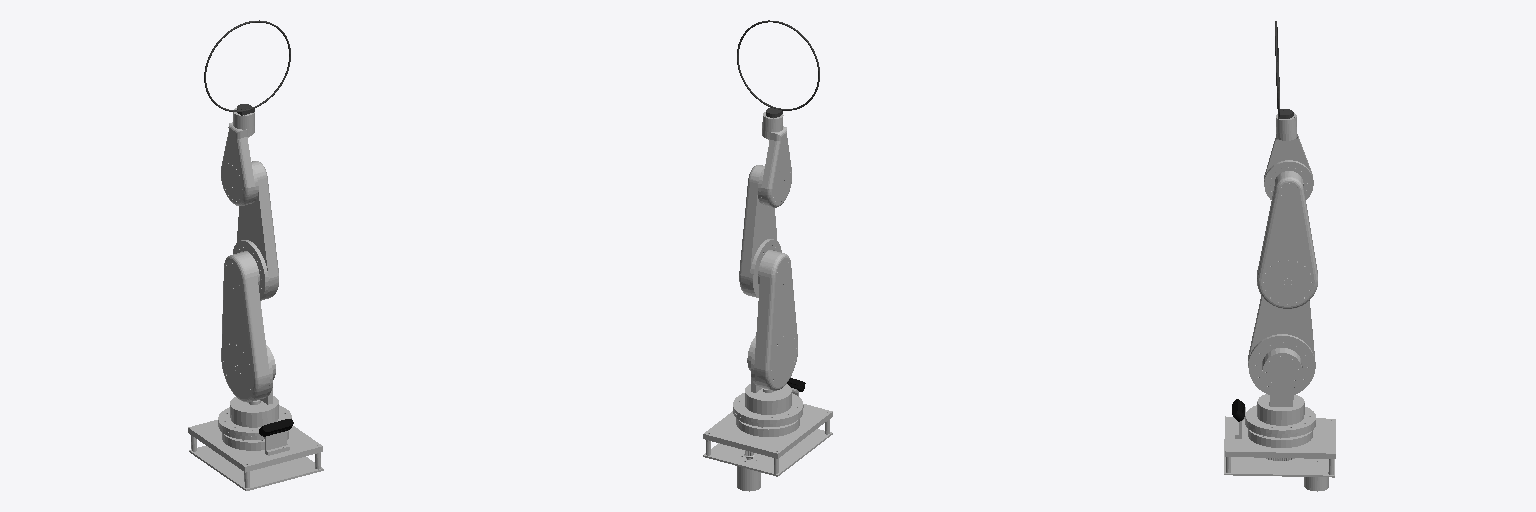
The robot description file, URDF, robot "arm":
<?xml version="1.0" encoding="utf-8"?>
<robot name="arm">

  <link name="world"/>

  <joint name="world_fixed" type="fixed">
    <parent link="world"/>
    <child link="base_link"/>
    <origin xyz="0 0 0" rpy="0 0 0"/>
  </joint>

  <ros2_control name="arm_hardware" type="system">
    <hardware>
      <plugin>gz_ros2_control/GazeboSimSystem</plugin>
    </hardware>
    <joint name="BaseYaw">
      <command_interface name="position">
        <param name="position_proportional_gain">5.0</param>
      </command_interface>
      <state_interface name="position"/>
      <state_interface name="velocity"/>
    </joint>
    <joint name="ShoulderPitch">
      <command_interface name="position">
        <param name="position_proportional_gain">2.0</param>
      </command_interface>
      <state_interface name="position"/>
      <state_interface name="velocity"/>
    </joint>
    <joint name="ElbowPitch">
      <command_interface name="position">
        <param name="position_proportional_gain">2.0</param>
      </command_interface>
      <state_interface name="position"/>
      <state_interface name="velocity"/>
    </joint>
    <joint name="WristPitch">
      <command_interface name="position">
        <param name="position_proportional_gain">2.0</param>
      </command_interface>
      <state_interface name="position"/>
      <state_interface name="velocity"/>
    </joint>
    <joint name="HoopRotate">
      <command_interface name="position">
        <param name="position_proportional_gain">2.0</param>
      </command_interface>
      <state_interface name="position"/>
      <state_interface name="velocity"/>
    </joint>
  </ros2_control>

  <link name="base_link"/>

  <joint name="base_link_to_base_body" type="fixed">
    <parent link="base_link"/>
    <child link="base_body"/>
    <origin xyz="0 0 0" rpy="0 0 0"/>
  </joint>

  <link name="base_body">
    <inertial>
      <origin xyz="0.000363 -0.016407 -0.013656" rpy="0 0 0"/>
      <mass value="4.0693408144362"/>
      <inertia ixx="0.0231" ixy="-0.000317" ixz="7.19E-06"
               iyy="0.0371" iyz="-0.000489" izz="0.0148"/>
    </inertial>
    <visual>
      <origin xyz="0 0 0" rpy="0 0 0"/>
      <geometry>
        <mesh filename="package://arm/meshes/base_link.STL"/>
      </geometry>
      <material name="grey"><color rgba="0.75 0.75 0.75 1"/></material>
    </visual>
    <collision>
      <origin xyz="0 0 0" rpy="0 0 0"/>
      <geometry>
        <mesh filename="package://arm/meshes/base_link.STL"/>
      </geometry>
      <surface>
        <contact><collide_bitmask>0x01</collide_bitmask></contact>
      </surface>
    </collision>
  </link>

  <joint name="BaseYaw" type="continuous">
    <origin xyz="0 0 0" rpy="-1.5569 -0.028316 -1.2307"/>
    <parent link="base_link"/>
    <child link="Shoulder"/>
    <axis xyz="0 1 0"/>
    <limit effort="32.0" velocity="10.0"/>
    <dynamics damping="2.0" friction="0.0"/>
  </joint>

  <link name="Shoulder">
    <inertial>
      <origin xyz="0.000158 -0.095156 0.000474" rpy="0 0 0"/>
      <mass value="3.12266982777306"/>
      <inertia ixx="0.00674" ixy="0.000164" ixz="7.55E-05"
               iyy="0.00592" iyz="0.000504" izz="0.00694"/>
    </inertial>
    <visual>
      <origin xyz="0 0 0" rpy="0 0 0"/>
      <geometry>
        <mesh filename="package://arm/meshes/Shoulder.STL"/>
      </geometry>
      <material name="grey"><color rgba="0.75 0.75 0.75 1"/></material>
    </visual>
    <collision>
      <origin xyz="0 0 0" rpy="0 0 0"/>
      <geometry>
        <mesh filename="package://arm/meshes/Shoulder.STL"/>
      </geometry>
      <surface>
        <contact><collide_bitmask>0x01</collide_bitmask></contact>
      </surface>
    </collision>
  </link>

  <joint name="ShoulderPitch" type="revolute">
    <origin xyz="0 -0.207 0" rpy="-1.84 -0.16389 -2.1048"/>
    <parent link="Shoulder"/>
    <child link="UpperArm"/>
    <axis xyz="0 1 0"/>
    <limit lower="-1.57" upper="1.57" effort="24.8" velocity="6.0"/>
    <dynamics damping="1.5" friction="0.0"/>
  </joint>

  <link name="UpperArm">
    <inertial>
      <origin xyz="0.109556 0.014861 0.063252" rpy="0 0 0"/>
      <mass value="2.95618459814663"/>
      <inertia ixx="0.00977" ixy="0.000779" ixz="-0.00864"
               iyy="0.02853" iyz="0.000450" izz="0.01974"/>
    </inertial>
    <visual>
      <origin xyz="0 0 0" rpy="0 0 0"/>
      <geometry>
        <mesh filename="package://arm/meshes/UpperArm.STL"/>
      </geometry>
      <material name="grey"><color rgba="0.75 0.75 0.75 1"/></material>
    </visual>
    <collision>
      <origin xyz="0 0 0" rpy="0 0 0"/>
      <geometry>
        <mesh filename="package://arm/meshes/UpperArm.STL"/>
      </geometry>
      <surface>
        <contact><collide_bitmask>0x01</collide_bitmask></contact>
      </surface>
    </collision>
  </link>

  <joint name="ElbowPitch" type="revolute">
    <origin xyz="0.21651 0 0.125" rpy="-1.5708 -1.0086 -3.1416"/>
    <parent link="UpperArm"/>
    <child link="LowerArm"/>
    <axis xyz="0 0 1"/>
    <limit lower="-1.57" upper="1.57" effort="9.0" velocity="8.0"/>
    <dynamics damping="0.1" friction="0.0"/>
  </joint>

  <link name="LowerArm">
    <inertial>
      <origin xyz="1.73E-07 -0.114308 0.022476" rpy="0 0 0"/>
      <mass value="1.89340928996277"/>
      <inertia ixx="0.01462" ixy="3.99E-10" ixz="-7.82E-09"
               iyy="0.00250" iyz="-0.000482" izz="0.01664"/>
    </inertial>
    <visual>
      <origin xyz="0 0 0" rpy="0 0 0"/>
      <geometry>
        <mesh filename="package://arm/meshes/LowerArm.STL"/>
      </geometry>
      <material name="grey"><color rgba="0.75 0.75 0.75 1"/></material>
    </visual>
    <collision>
      <origin xyz="0 0 0" rpy="0 0 0"/>
      <geometry>
        <mesh filename="package://arm/meshes/LowerArm.STL"/>
      </geometry>
      <surface>
        <contact><collide_bitmask>0x01</collide_bitmask></contact>
      </surface>
    </collision>
  </link>

  <joint name="WristPitch" type="revolute">
    <origin xyz="0 -0.25 0" rpy="1.5708 0 2.1458"/>
    <parent link="LowerArm"/>
    <child link="Wrist"/>
    <axis xyz="0 1 0"/>
    <limit lower="-1.57" upper="1.57" effort="4.1" velocity="10.0"/>
    <dynamics damping="0.1" friction="0.0"/>
  </joint>

  <link name="Wrist">
    <inertial>
      <origin xyz="-0.058969 -0.016427 -0.034046" rpy="0 0 0"/>
      <mass value="0.913494263645654"/>
      <inertia ixx="0.00109" ixy="0.000113" ixz="-0.000645"
               iyy="0.00273" iyz="6.51E-05" izz="0.00184"/>
    </inertial>
    <visual>
      <origin xyz="0 0 0" rpy="0 0 0"/>
      <geometry>
        <mesh filename="package://arm/meshes/Wrist.STL"/>
      </geometry>
      <material name="grey"><color rgba="0.75 0.75 0.75 1"/></material>
    </visual>
    <collision>
      <origin xyz="0 0 0" rpy="0 0 0"/>
      <geometry>
        <mesh filename="package://arm/meshes/Wrist.STL"/>
      </geometry>
      <surface>
        <contact><collide_bitmask>0x01</collide_bitmask></contact>
      </surface>
    </collision>
  </link>

  <joint name="HoopRotate" type="continuous">
    <origin xyz="-0.15912 -0.00405 -0.091868" rpy="0.52375 0.023075 -1.5575"/>
    <parent link="Wrist"/>
    <child link="Hoop"/>
    <axis xyz="0 1 0"/>
    <limit effort="5.0" velocity="15.0"/>
    <dynamics damping="0.1" friction="0.0"/>
  </joint>

  <!-- HOOP — visual only, no physical collision so ball passes through rim -->
  <link name="Hoop">
    <inertial>
      <origin xyz="-1.44E-07 -0.062493 0.008432" rpy="0 0 0"/>
      <mass value="0.0430752676223343"/>
      <inertia ixx="0.000274" ixy="2.45E-10" ixz="9.22E-12"
               iyy="0.000142" iyz="1.64E-05" izz="0.000407"/>
    </inertial>
    <visual>
      <origin xyz="0 0 0" rpy="0 0 0"/>
      <geometry>
        <mesh filename="package://arm/meshes/Hoop.STL"/>
      </geometry>
      <material name="dark_grey"><color rgba="0.3 0.3 0.3 1"/></material>
    </visual>
    <!-- No real collision — ball passes through rim freely -->
    <collision>
      <geometry><box size="0.001 0.001 0.001"/></geometry>
    </collision>
  </link>

  <!-- CAMERA LINK -->
  <link name="Camera">
    <inertial>
      <origin xyz="0.000246 -6.06E-05 -0.013048" rpy="0 0 0"/>
      <mass value="0.120833728236314"/>
      <inertia ixx="1.07E-05" ixy="-7.59E-09" ixz="6.60E-07"
               iyy="7.39E-05" iyz="-3.16E-09" izz="7.36E-05"/>
    </inertial>
    <visual>
      <origin xyz="0 0 0" rpy="0 0 0"/>
      <geometry>
        <mesh filename="package://arm/meshes/Camera.STL"/>
      </geometry>
      <material name="black"><color rgba="0.1 0.1 0.1 1"/></material>
    </visual>
    <collision>
      <geometry><box size="0.001 0.001 0.001"/></geometry>
    </collision>
  </link>

  <joint name="FixedCamera" type="fixed">
    <origin xyz="-0.0020245 -0.1136 0.092255" rpy="0.76332 -0.022515 0.00046617"/>
    <parent link="base_link"/>
    <child link="Camera"/>
  </joint>

  <link name="camera_optical"/>

  <joint name="camera_to_optical" type="fixed">
    <parent link="Camera"/>
    <child link="camera_optical"/>
    <origin xyz="0 0 0" rpy="0 -1.5707 -1.5707"/>
  </joint>

  <!-- TRANSMISSIONS -->
  <transmission name="BaseYaw_trans">
    <type>transmission_interface/SimpleTransmission</type>
    <joint name="BaseYaw">
      <hardwareInterface>hardware_interface/EffortJointInterface</hardwareInterface>
    </joint>
    <actuator name="BaseYaw_motor">
      <hardwareInterface>hardware_interface/EffortJointInterface</hardwareInterface>
      <mechanicalReduction>1</mechanicalReduction>
    </actuator>
  </transmission>

  <transmission name="ShoulderPitch_trans">
    <type>transmission_interface/SimpleTransmission</type>
    <joint name="ShoulderPitch">
      <hardwareInterface>hardware_interface/EffortJointInterface</hardwareInterface>
    </joint>
    <actuator name="ShoulderPitch_motor">
      <hardwareInterface>hardware_interface/EffortJointInterface</hardwareInterface>
      <mechanicalReduction>1</mechanicalReduction>
    </actuator>
  </transmission>

  <transmission name="ElbowPitch_trans">
    <type>transmission_interface/SimpleTransmission</type>
    <joint name="ElbowPitch">
      <hardwareInterface>hardware_interface/EffortJointInterface</hardwareInterface>
    </joint>
    <actuator name="ElbowPitch_motor">
      <hardwareInterface>hardware_interface/EffortJointInterface</hardwareInterface>
      <mechanicalReduction>1</mechanicalReduction>
    </actuator>
  </transmission>

  <transmission name="WristPitch_trans">
    <type>transmission_interface/SimpleTransmission</type>
    <joint name="WristPitch">
      <hardwareInterface>hardware_interface/EffortJointInterface</hardwareInterface>
    </joint>
    <actuator name="WristPitch_motor">
      <hardwareInterface>hardware_interface/EffortJointInterface</hardwareInterface>
      <mechanicalReduction>1</mechanicalReduction>
    </actuator>
  </transmission>

  <transmission name="HoopRotate_trans">
    <type>transmission_interface/SimpleTransmission</type>
    <joint name="HoopRotate">
      <hardwareInterface>hardware_interface/EffortJointInterface</hardwareInterface>
    </joint>
    <actuator name="HoopRotate_motor">
      <hardwareInterface>hardware_interface/EffortJointInterface</hardwareInterface>
      <mechanicalReduction>1</mechanicalReduction>
    </actuator>
  </transmission>

  <!-- ALL GAZEBO BLOCKS AT END -->
  <gazebo>
    <plugin filename="libgz_ros2_control-system.so"
            name="gz_ros2_control::GazeboSimROS2ControlPlugin">
      <parameters>/home/vaibhav/ros2_ws/src/arm/config/controllers.yaml</parameters>
    </plugin>
  </gazebo>

  <gazebo reference="base_link">
    <material>Gazebo/Grey</material>
  </gazebo>

  <gazebo reference="base_body">
    <material>Gazebo/Grey</material>
    <selfCollide>false</selfCollide>
  </gazebo>

  <gazebo reference="Shoulder">
    <material>Gazebo/Grey</material>
    <selfCollide>false</selfCollide>
  </gazebo>

  <gazebo reference="UpperArm">
    <material>Gazebo/Grey</material>
    <selfCollide>false</selfCollide>
  </gazebo>

  <gazebo reference="LowerArm">
    <material>Gazebo/Grey</material>
    <selfCollide>false</selfCollide>
  </gazebo>

  <gazebo reference="Wrist">
    <material>Gazebo/Grey</material>
    <selfCollide>false</selfCollide>
  </gazebo>

  <gazebo reference="Hoop">
    <material>Gazebo/DarkGrey</material>
    <selfCollide>false</selfCollide>
  </gazebo>

  <gazebo reference="Camera">
    <material>Gazebo/Black</material>
    <sensor name="depth_camera" type="depth_camera">
      <always_on>1</always_on>
      <update_rate>30</update_rate>
      <topic>/camera/depth/image_raw</topic>
      <gz_frame_id>camera_optical</gz_frame_id>
      <pose>0 0 0 0 -1.5707 -1.5707</pose>
      <camera>
        <horizontal_fov>1.5184</horizontal_fov>
        <image>
          <width>640</width>
          <height>480</height>
          <format>R_FLOAT32</format>
        </image>
        <clip>
          <near>0.1</near>
          <far>5.0</far>
        </clip>
      </camera>
    </sensor>
    <sensor name="color_camera" type="camera">
      <always_on>1</always_on>
      <update_rate>30</update_rate>
      <topic>/camera/color/image_raw</topic>
      <gz_frame_id>camera_optical</gz_frame_id>
      <pose>0 0 0 0 -1.5707 -1.5707</pose>
      <camera>
        <horizontal_fov>1.5184</horizontal_fov>
        <image>
          <width>640</width>
          <height>480</height>
          <format>R8G8B8</format>
        </image>
        <clip>
          <near>0.1</near>
          <far>5.0</far>
        </clip>
      </camera>
    </sensor>
  </gazebo>

</robot>

--- What the picture shows (computed from the rendered views, not written in the file) ---
3 views of the same robot in one strip: view 1: azimuth 30°, elevation 25°; view 2: azimuth 150°, elevation 25°; view 3: azimuth 270°, elevation 25° (orthographic).
Robot: arm — 10 links, 9 joints (3 revolute, 2 continuous, 4 fixed); root link world; default pose: every joint at zero.
Links seen in each view (by area): view 1: UpperArm, base_body, LowerArm, Wrist, Shoulder, Hoop; view 2: base_body, UpperArm, LowerArm, Shoulder, Wrist, Hoop; view 3: LowerArm, base_body, Shoulder, UpperArm, Wrist.
Boxes of the visible links, left/top/right/bottom form: UpperArm: left=221, top=251, right=272, bottom=402; base_body: left=188, top=420, right=323, bottom=490; LowerArm: left=233, top=161, right=278, bottom=300; Wrist: left=221, top=108, right=258, bottom=205; Shoulder: left=218, top=345, right=291, bottom=439; Hoop: left=204, top=20, right=290, bottom=115; base_body: left=703, top=388, right=832, bottom=491; UpperArm: left=751, top=250, right=797, bottom=390; LowerArm: left=739, top=165, right=781, bottom=297; Shoulder: left=733, top=336, right=803, bottom=426; Wrist: left=758, top=112, right=791, bottom=207; Hoop: left=737, top=20, right=819, bottom=117; LowerArm: left=1257, top=171, right=1317, bottom=308; base_body: left=1224, top=407, right=1335, bottom=491; Shoulder: left=1245, top=348, right=1315, bottom=460; UpperArm: left=1248, top=295, right=1315, bottom=394; Wrist: left=1264, top=113, right=1313, bottom=199.
Size in the robot's own frame: 0.2604 by 0.2815 by 1.27 metres.
7 mesh visuals loaded from 7 distinct referenced files (7 binary STL).
